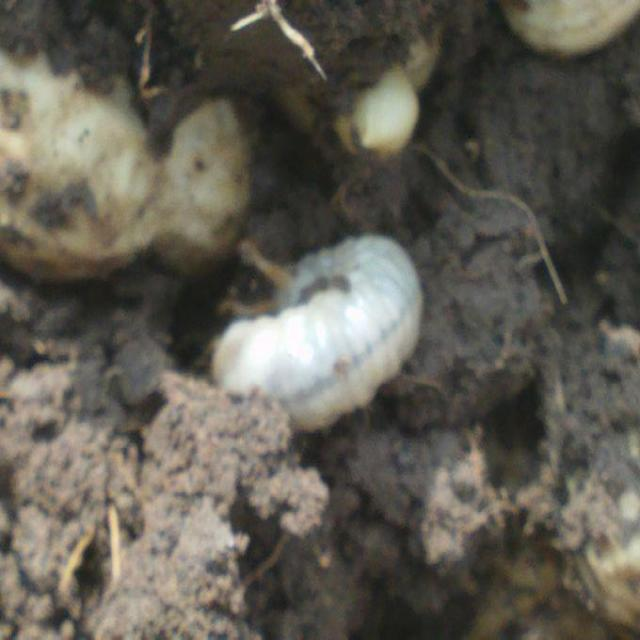Grub-Adult-: (189, 227, 421, 434)
